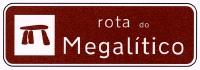direcao da rota: (4, 4, 200, 70)
